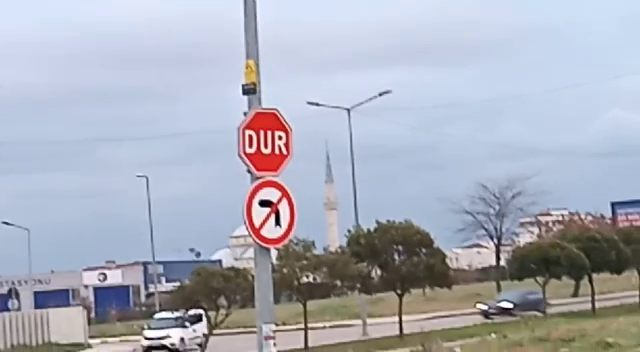no_left: (240, 175, 300, 250)
stop: (234, 105, 294, 177)
